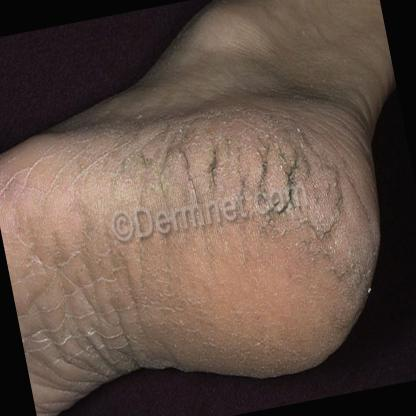Eczema: (98, 114, 188, 238), (224, 130, 316, 251), (162, 119, 246, 235), (290, 135, 371, 243), (306, 207, 386, 308), (13, 146, 96, 240), (56, 124, 131, 224), (20, 267, 86, 351), (104, 246, 166, 332), (22, 333, 81, 414), (150, 303, 209, 382), (61, 312, 116, 384), (55, 242, 108, 315), (101, 296, 157, 365), (85, 264, 125, 328)
